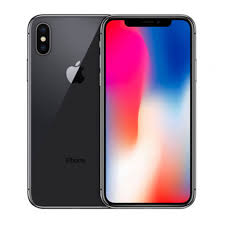iphone: (98, 11, 197, 208), (26, 17, 103, 208)
iphone10: (98, 11, 197, 208), (25, 13, 103, 209)
